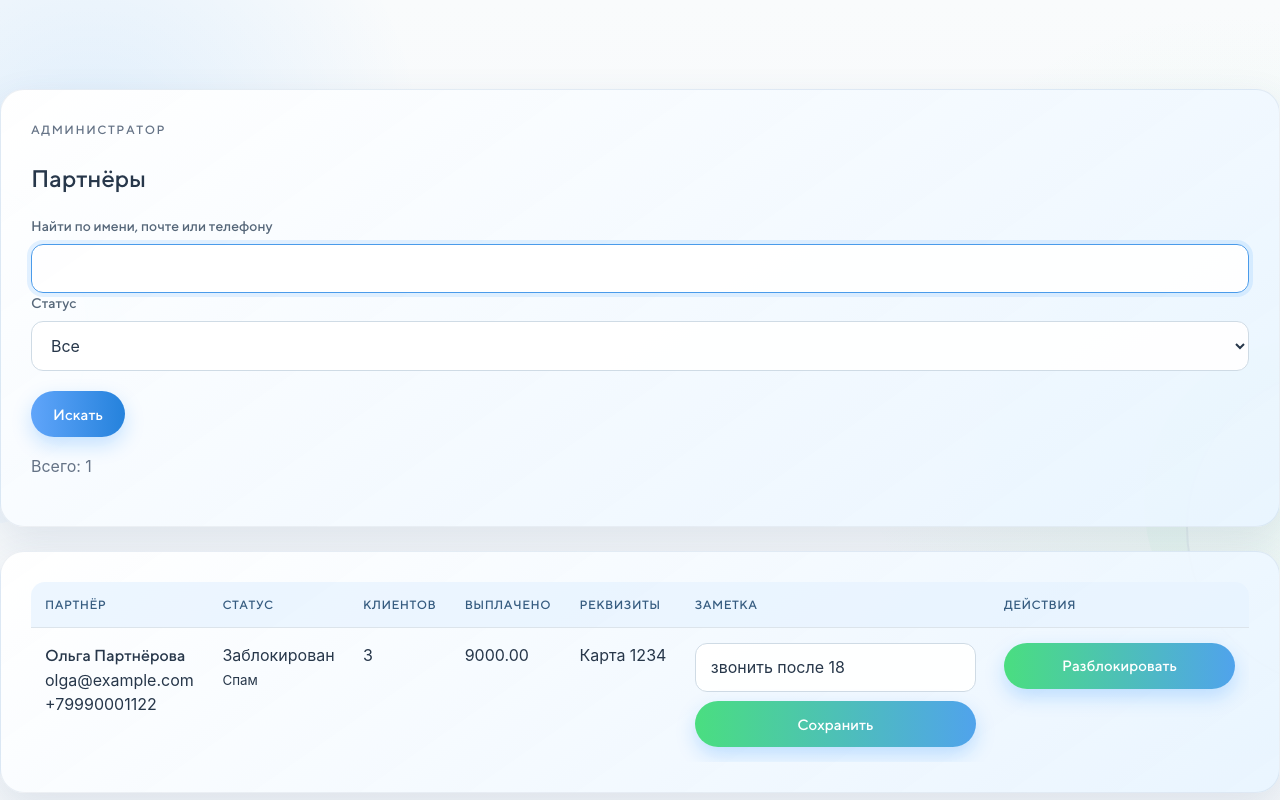
Test: AdminPartnersPage › unblocks a blocked partner
The width and height of the screenshot is (1280, 800).
Click the button "Разблокировать": (1120,666) [1004, 643, 1235, 689]
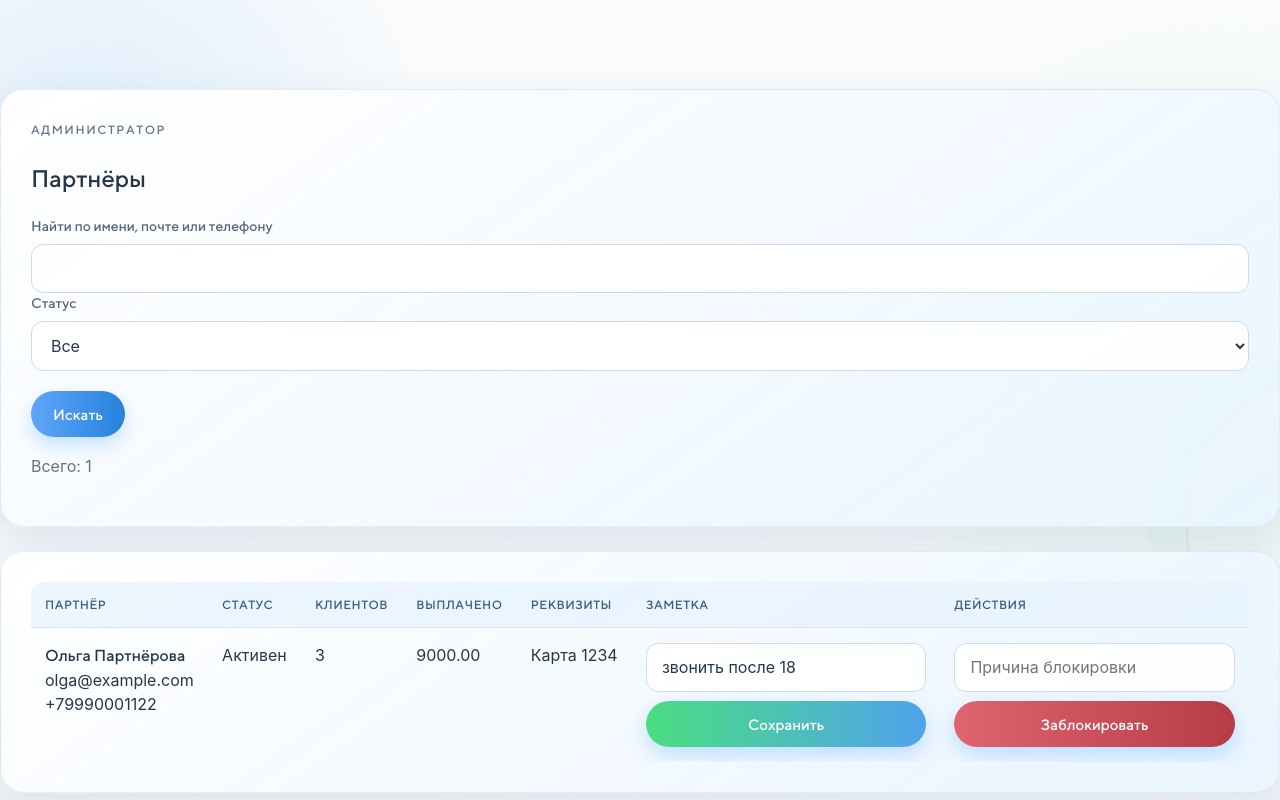
Result: the text "Активен" is shown at [208, 627, 301, 762]
